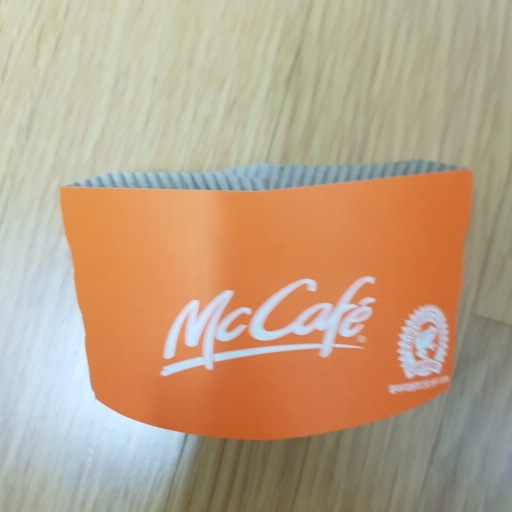Paper_0: (53, 158, 485, 447)
